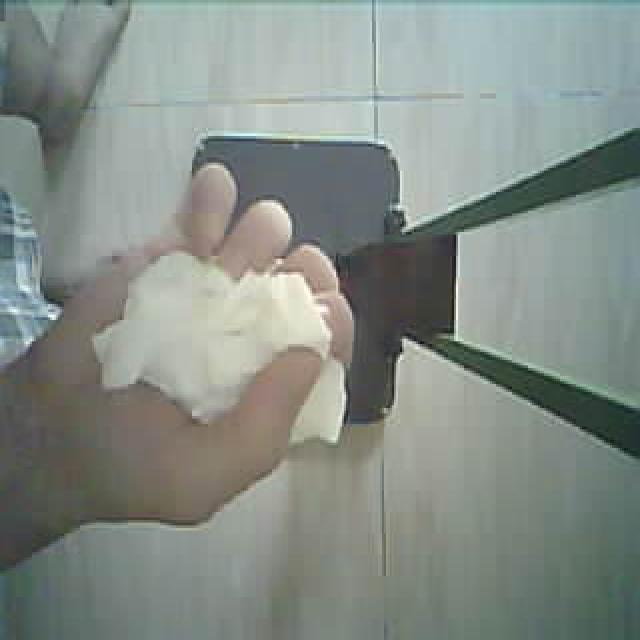Paper: (89, 176, 442, 529)
